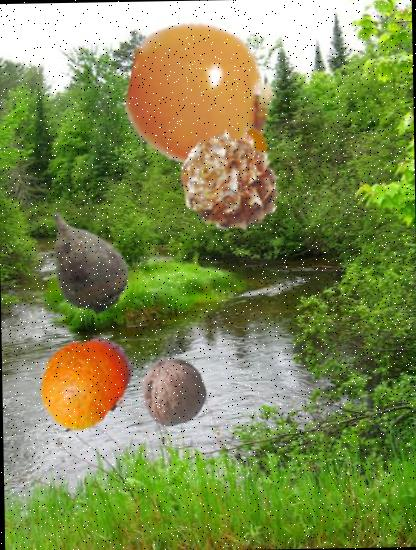Beetroot: (26, 203, 140, 318)
Mandarine: (33, 330, 135, 432)
Physalis: (126, 20, 278, 170), (194, 116, 268, 190)
Pineapple: (178, 130, 284, 236)
Walnut: (140, 357, 209, 426)
